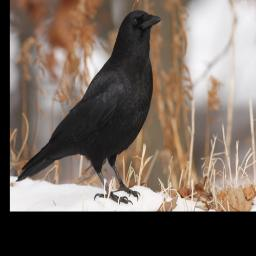Crow: (15, 6, 165, 206)
